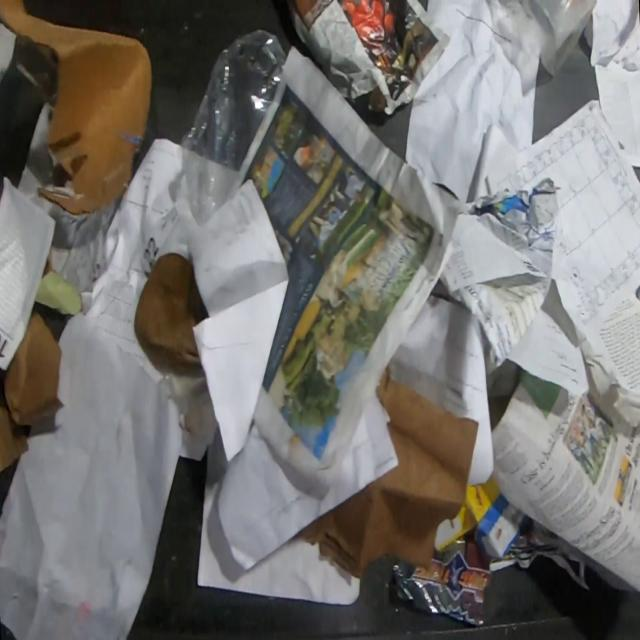cardboard: (295, 362, 479, 579), (0, 0, 153, 215), (0, 310, 66, 473), (132, 250, 210, 369), (434, 471, 530, 560), (34, 247, 82, 317)
rigid_plastic: (179, 25, 286, 229)
soft_plastic: (0, 36, 57, 199), (515, 0, 598, 78)
